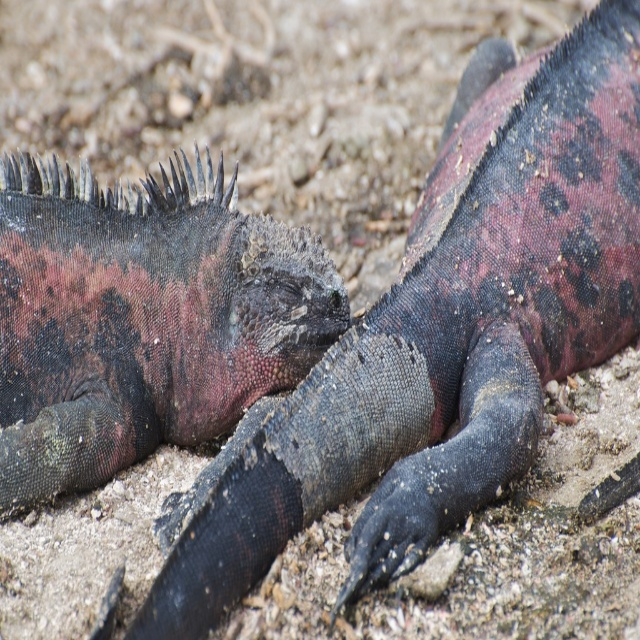Lizard: (24, 132, 348, 530)
